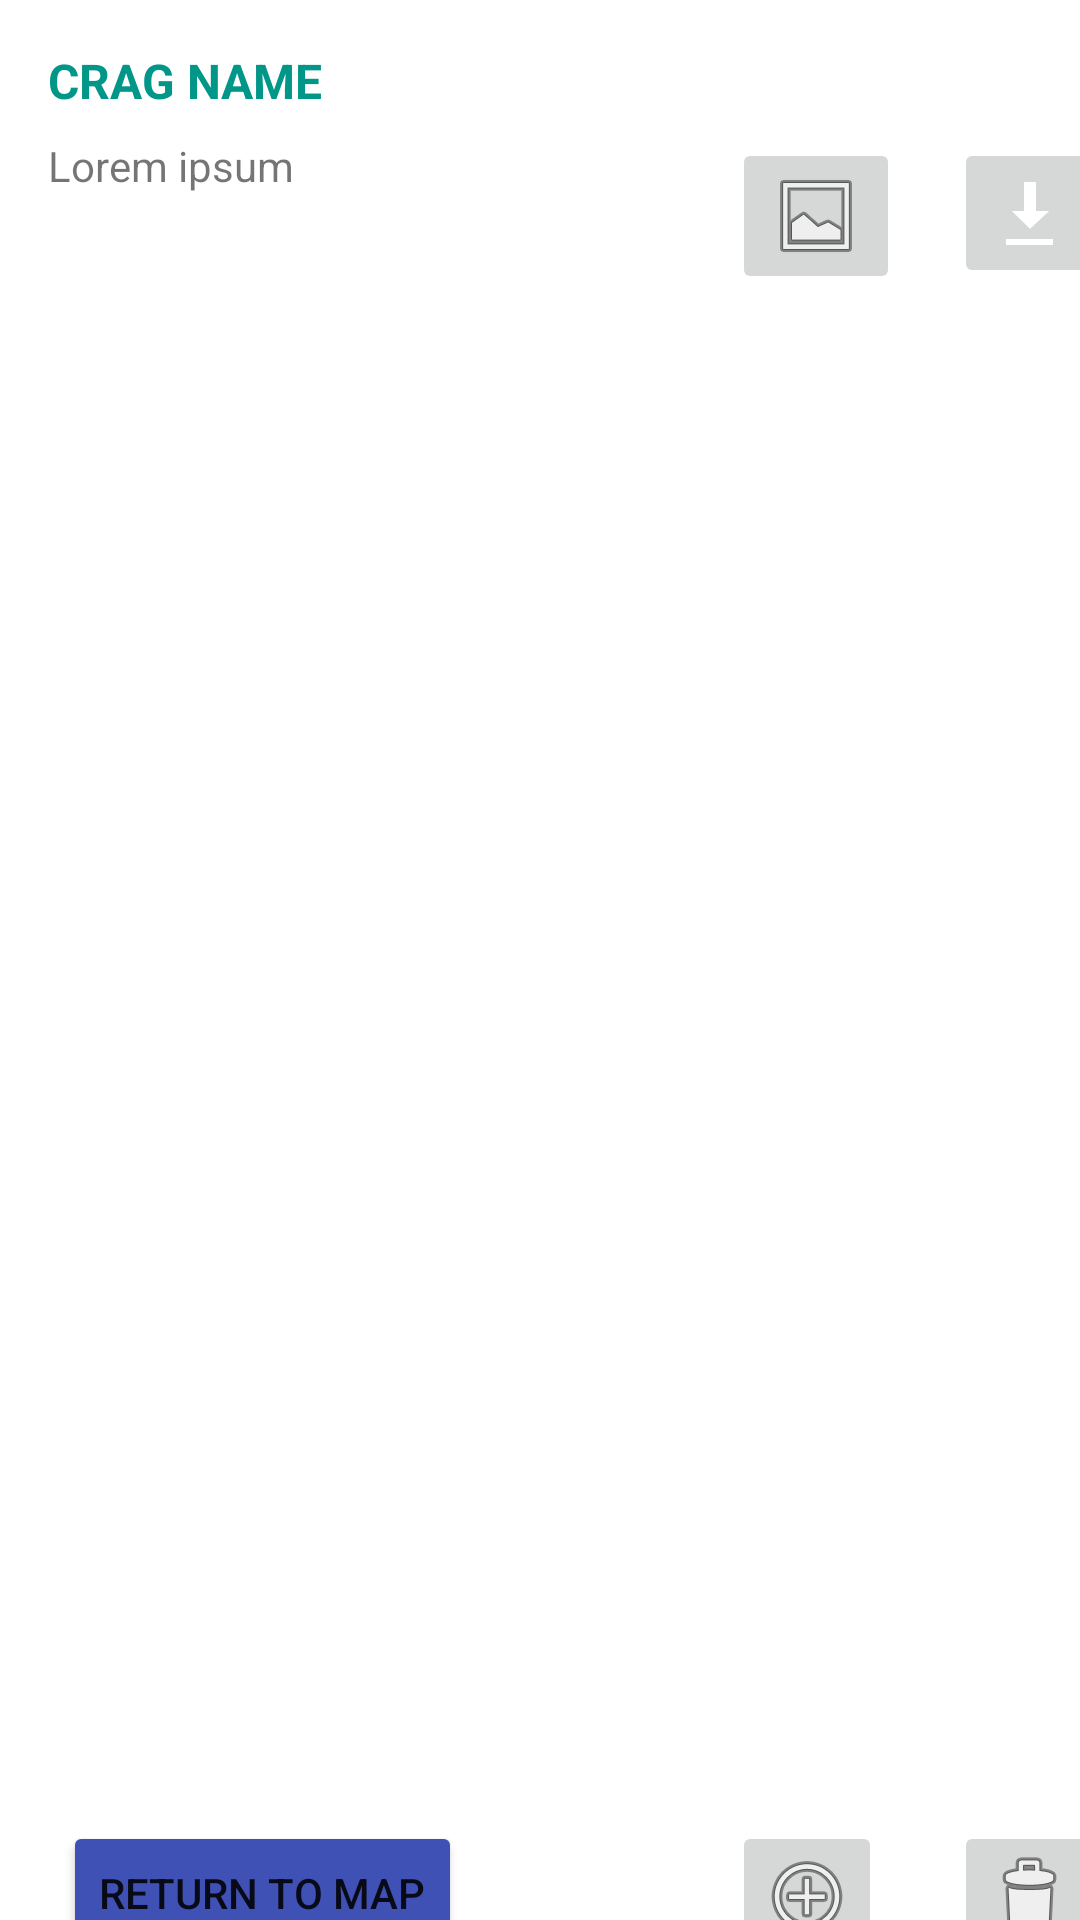

Locate icon controls on the screen. Image size 1080x1920, boxes as region(x1, y1, x2, y2).
gallery: region(744, 156, 888, 276)
